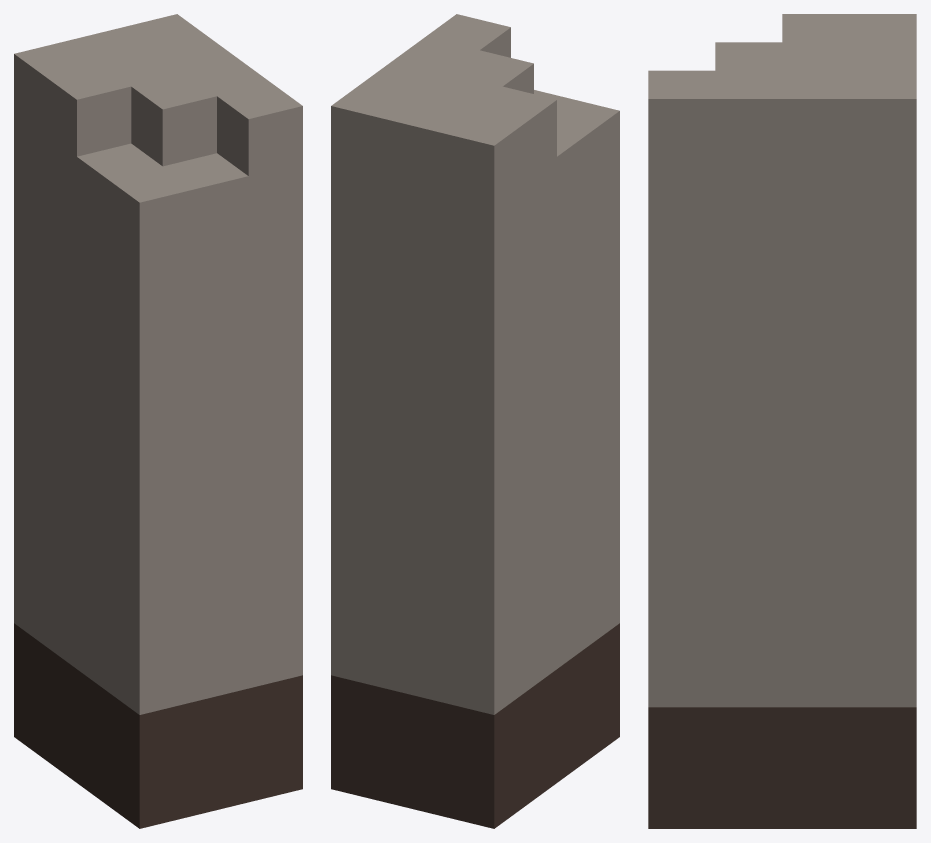
The model's file is donkey__leg_bl.glb.
The picture shows the model from 3 angles, left to right: view 1: azimuth 30°, elevation 25°; view 2: azimuth 150°, elevation 25°; view 3: azimuth 270°, elevation 25°; orthographic projection. The views are drawn at different scales.
Visible parts, largest first — view 1: donkey__leg_bl; view 2: donkey__leg_bl; view 3: donkey__leg_bl.
Boxes of the visible parts, <box> form: donkey__leg_bl: <box>14,14,302,828</box>; donkey__leg_bl: <box>331,14,619,828</box>; donkey__leg_bl: <box>648,14,916,828</box>.
Bounding box in the file's own units: 0.3 × 1.2 × 0.4.
1 material, 1 textured.
